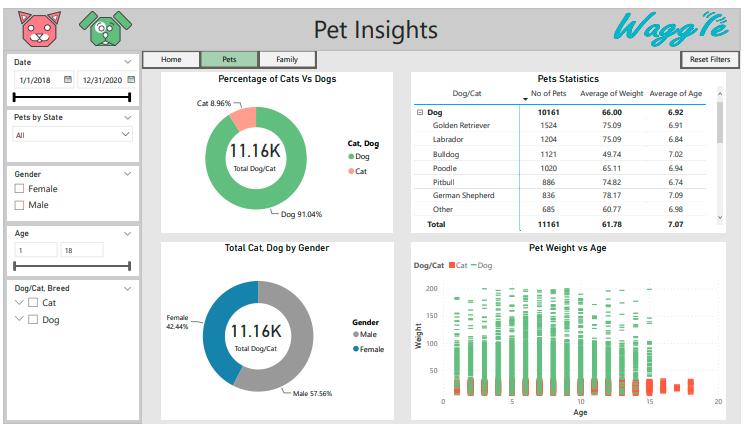

The page's visual inventory and layout, read from the dashboard file:
{"tool":"powerbi","page":{"name":"Pet Insights","canvas":[1280,720],"ordinal":1},"visuals":[{"type":"shape","box":[0,0,1280,72.9],"z":0,"group":"g1"},{"type":"shape","box":[0,72.5,240.3,647.4],"z":0,"group":"g2"},{"type":"donutChart","title":"Percentage of Cats Vs Dogs","fields":{"Category":["Pet_Data.Dog/Cat"],"Y":["CountNonNull(Pet_Data.Dog/Cat)"]},"box":[273.6,111.3,403.2,276.6],"z":0},{"type":"textbox","box":[510.4,0,260.3,69.4],"z":1000,"group":"g1"},{"type":"pivotTable","title":"Pets Statistics","fields":{"Rows":["Pet_Data.Dog/Cat","Pet_Data.Breed"],"Values":["CountNonNull(Pet_Data.Pet_ID)","Avg(Pet_Data.Weight)","Avg(Pet_Data.Age)"]},"box":[708.4,111.3,546.1,276.6],"z":1000},{"type":"slicer","fields":{"Values":["Family_Data.State"]},"box":[5,175.8,229.4,88.4],"z":1000,"group":"g2"},{"type":"image","box":[1055.3,0,210.1,72],"z":2000,"group":"g1"},{"type":"slicer","fields":{"Values":["Date_Table.Date"]},"box":[5,79.5,229.4,90.4],"z":2000,"group":"g2"},{"type":"donutChart","title":"Total Cat, Dog by Gender","fields":{"Category":["Pet_Data.Gender"],"Y":["CountNonNull(Pet_Data.Dog/Cat)"]},"box":[273.1,405.2,404.2,307.8],"z":2000},{"type":"image","box":[6,0,112.2,72.5],"z":3000,"group":"g1"},{"type":"card","fields":{"Values":["CountNonNull(Pet_Data.Dog/Cat)"]},"box":[369.2,199.6,133.4,105.1],"z":3000},{"type":"slicer","fields":{"Values":["Pet_Data.Gender"]},"box":[6,273.1,228.4,95.3],"z":3000,"group":"g2"},{"type":"image","box":[120.2,0,114.2,69.5],"z":4000,"group":"g1"},{"type":"slicer","fields":{"Values":["Pet_Data.Age"]},"box":[6,376.4,228.4,86.4],"z":4000,"group":"g2"},{"type":"scatterChart","title":"Pet Weight vs Age","fields":{"Y":["Pet_Data.Weight"],"X":["Pet_Data.Age"],"Series":["Pet_Data.Dog/Cat"]},"box":[708,405.2,546.2,307.8],"z":4000},{"type":"slicer","fields":{"Values":["Pet_Data.Dog/Cat","Pet_Data.Breed"]},"box":[6,470.7,228.4,242.3],"z":5000,"group":"g2"},{"type":"card","fields":{"Values":["CountNonNull(Pet_Data.Dog/Cat)"]},"box":[371,512.4,133.4,105.1],"z":5000},{"type":"actionButton","title":"Home","box":[441.7,72.4,102.5,31.8],"z":6000},{"type":"actionButton","title":"Home","box":[239.9,72.5,103.1,31.6],"z":7000},{"type":"actionButton","title":"Home","box":[1176.9,72.5,103.1,31.6],"z":8000},{"type":"actionButton","title":"Home","box":[341,72.4,103.4,31.8],"z":9000},{"type":"group","id":"g1","title":"Banner_Pet","box":[0,0,1280,72.9],"z":10000},{"type":"group","id":"g2","title":"Slicer_Pet","box":[0,72.5,240.3,647.4],"z":11000}]}

Visuals, with their boxes in screenshot pixels (x1, y1, x2, y2), scaled from the page's 1280x720 canvas onto the 746x430 screenshot:
shape: region(0, 0, 745, 44)
shape: region(0, 43, 140, 429)
"Percentage of Cats Vs Dogs" donutChart: region(159, 66, 394, 232)
textbox: region(297, 0, 449, 41)
"Pets Statistics" pivotTable: region(413, 66, 731, 232)
slicer - Family_Data.State: region(3, 105, 137, 158)
image: region(615, 0, 737, 43)
slicer - Date_Table.Date: region(3, 47, 137, 101)
"Total Cat, Dog by Gender" donutChart: region(159, 242, 395, 426)
image: region(3, 0, 69, 43)
card - CountNonNull(Pet_Data.Dog/Cat): region(215, 119, 293, 182)
slicer - Pet_Data.Gender: region(3, 163, 137, 220)
image: region(70, 0, 137, 42)
slicer - Pet_Data.Age: region(3, 225, 137, 276)
"Pet Weight vs Age" scatterChart: region(413, 242, 731, 426)
slicer - Pet_Data.Dog/Cat x Pet_Data.Breed: region(3, 281, 137, 426)
card - CountNonNull(Pet_Data.Dog/Cat): region(216, 306, 294, 369)
"Home" actionButton: region(257, 43, 317, 62)
"Home" actionButton: region(140, 43, 200, 62)
"Home" actionButton: region(686, 43, 745, 62)
"Home" actionButton: region(199, 43, 259, 62)
"Banner_Pet" group: region(0, 0, 745, 44)
"Slicer_Pet" group: region(0, 43, 140, 429)
